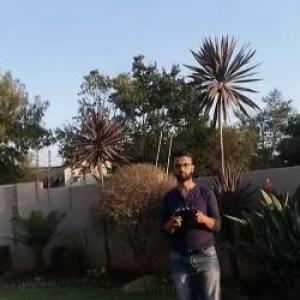follow: (158, 144, 232, 299)
